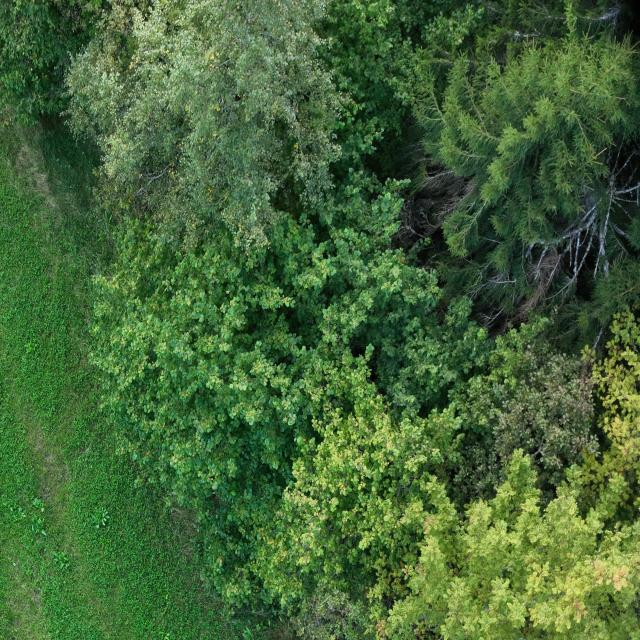rumex: (50, 548, 70, 568), (32, 496, 44, 509), (101, 509, 109, 524)
